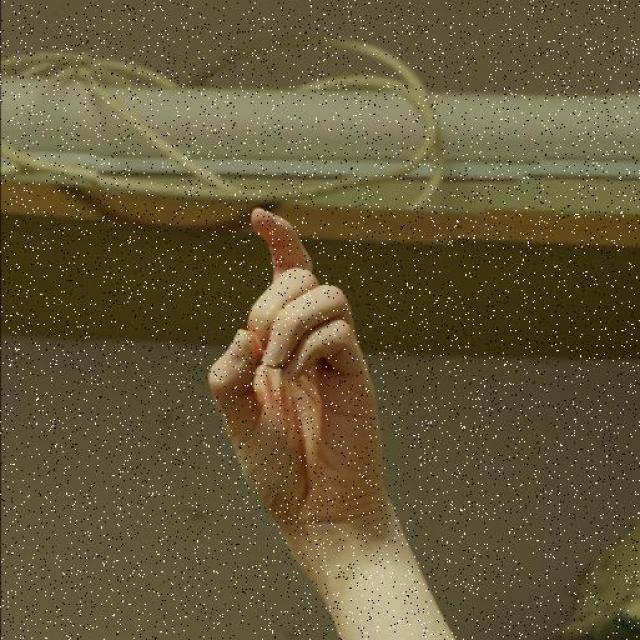X: (202, 205, 382, 523)
